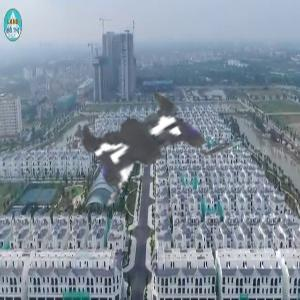drone: (3, 7, 292, 296)
